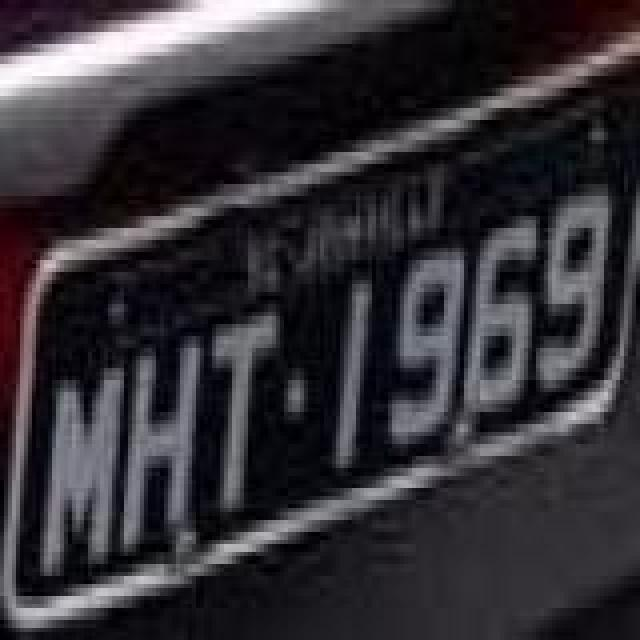1: (330, 278, 374, 474)
6: (460, 214, 540, 410)
9: (382, 246, 466, 450), (536, 188, 616, 396)
H: (116, 336, 204, 552)
M: (36, 364, 124, 580)
T: (212, 304, 284, 520)
